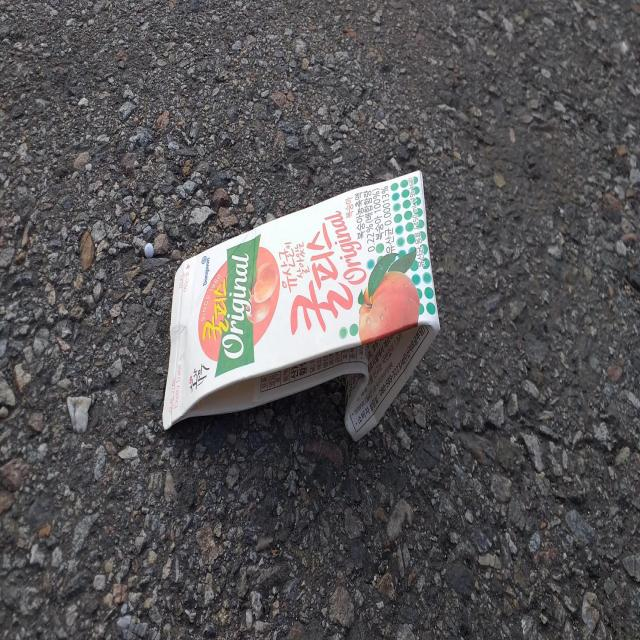paperpack: (162, 170, 440, 440)
